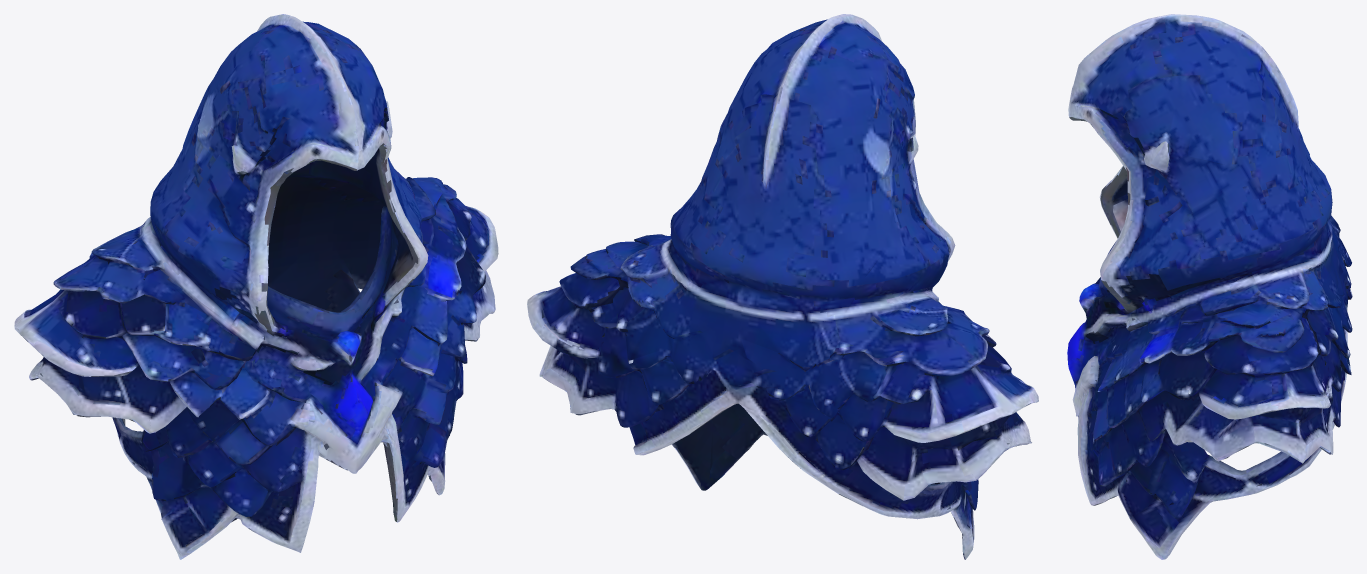
The model's file is condutor-elmo.glb.
3 views of the same model, side by side, from view 1: azimuth 30°, elevation 25°; view 2: azimuth 150°, elevation 25°; view 3: azimuth 270°, elevation 25° (orthographic). The views are drawn at different scales.
Parts seen in each view (by area): view 1: tripo_node_fb46828b-aa71-4e4e-ac78-54cd389011bc; view 2: tripo_node_fb46828b-aa71-4e4e-ac78-54cd389011bc; view 3: tripo_node_fb46828b-aa71-4e4e-ac78-54cd389011bc.
Part boxes in pixels (bbox=[...]): tripo_node_fb46828b-aa71-4e4e-ac78-54cd389011bc: bbox=[14, 14, 498, 559]; tripo_node_fb46828b-aa71-4e4e-ac78-54cd389011bc: bbox=[527, 14, 1038, 559]; tripo_node_fb46828b-aa71-4e4e-ac78-54cd389011bc: bbox=[1067, 14, 1352, 559].
Size of the model in its own units: 0.9638 by 0.972 by 0.5146.
Materials: 1 (1 with a texture image).
